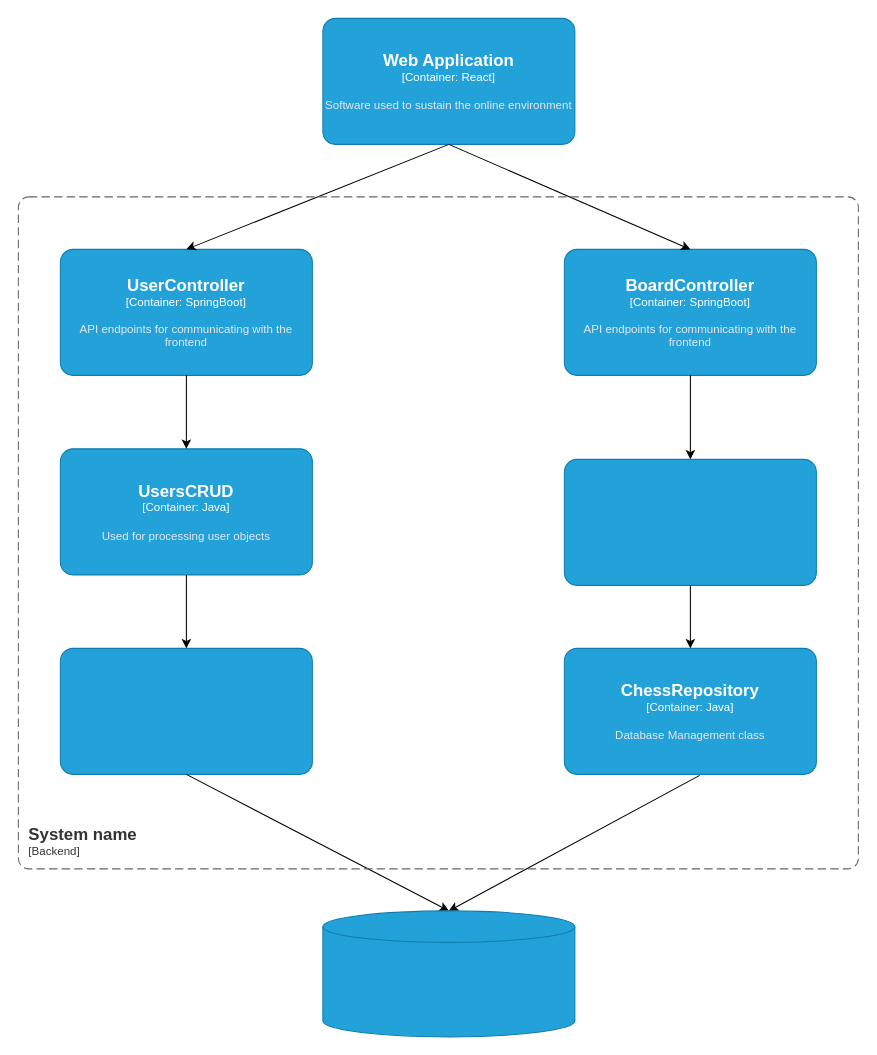
The diagram is 877 pixels wide and 1055 high, and some of its shapes have lost their labels. The centre of each missing label's shape, as x and y in pixels:
"Database [Database: MySql] Storage for all application data" goes at pixel 448 973.
"MoveManager [Container: Java] Used for processing game operations" goes at pixel 689 521.
"UserRepository [Container: Java] Database Management class" goes at pixel 185 710.
